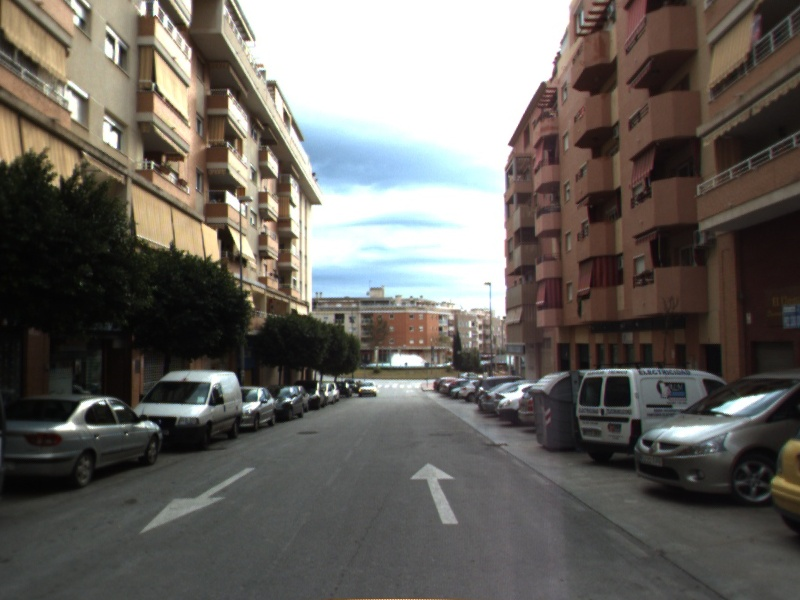STRAIGHT: (408, 460, 460, 526)
